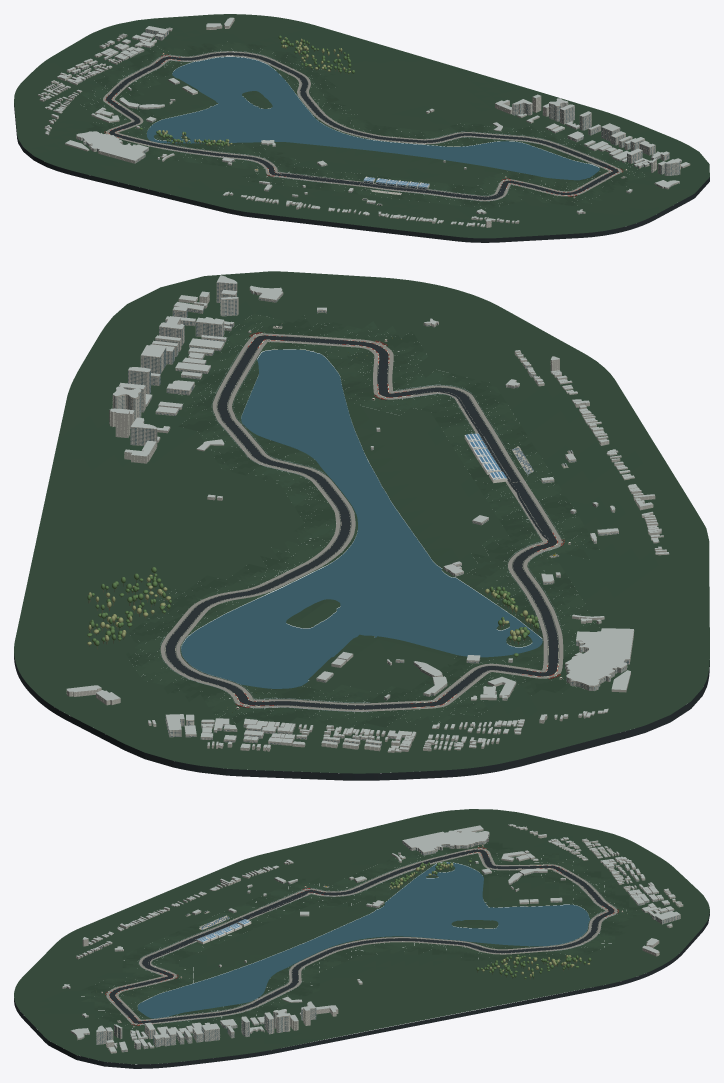
Rendered from Melbourne.glb.
3 renders of one model, top to bottom at view 1: azimuth 30°, elevation 25°; view 2: azimuth 150°, elevation 25°; view 3: azimuth 270°, elevation 25°, orthographic. The views are drawn at different scales.
Visible parts, largest first — view 1: terrain/ground, water-1/water, terrain-ground-finish-1, terrain-ground-finish-3, terrain-ground-finish-2, road/asphalt, runoff/gravel, terrain-ground-finish-0, terrain-ground-finish-4, terrain-skirt/dark, shoulder/runoff, urban-map-tile--5--2/roof (+9 smaller); view 2: terrain/ground, water-1/water, terrain-ground-finish-1, terrain-ground-finish-3, terrain-ground-finish-2, road/asphalt, terrain-ground-finish-0, terrain-ground-finish-4, runoff/gravel, terrain-skirt/dark, shoulder/runoff, urban-map-tile--5--2/roof (+11 smaller); view 3: terrain/ground, water-1/water, terrain-ground-finish-1, terrain-ground-finish-3, terrain-ground-finish-2, road/asphalt, terrain-ground-finish-0, terrain-ground-finish-4, runoff/gravel, terrain-skirt/dark, shoulder/runoff, urban-map-tile--5--2/roof (+5 smaller).
Boxes of the visible parts, x1,y1,x2,y2 form: terrain/ground: (14,14,709,238); water-1/water: (146,57,599,180); terrain-ground-finish-1: (79,43,639,208); terrain-ground-finish-3: (80,42,647,208); terrain-ground-finish-2: (82,41,640,209); road/asphalt: (106,52,618,199); runoff/gravel: (103,51,621,201); terrain-ground-finish-0: (86,44,628,206); terrain-ground-finish-4: (83,42,644,205); terrain-skirt/dark: (14,103,709,242); shoulder/runoff: (105,52,619,200); urban-map-tile--5--2/roof: (76,131,148,160); terrain/ground: (14,271,709,773); water-1/water: (181,349,542,688); terrain-ground-finish-1: (126,315,599,729); terrain-ground-finish-3: (134,313,596,727); terrain-ground-finish-2: (129,316,600,726); road/asphalt: (166,335,558,709); terrain-ground-finish-0: (128,320,598,727); terrain-ground-finish-4: (136,315,595,726); runoff/gravel: (160,333,563,711); terrain-skirt/dark: (14,653,709,780); shoulder/runoff: (164,335,559,709); urban-map-tile--5--2/roof: (565,628,633,685); terrain/ground: (14,809,709,1064); water-1/water: (137,862,590,1018); terrain-ground-finish-1: (81,841,636,1037); terrain-ground-finish-3: (87,846,642,1031); terrain-ground-finish-2: (88,841,638,1031); road/asphalt: (109,849,614,1023); terrain-ground-finish-0: (85,843,642,1034); terrain-ground-finish-4: (81,851,628,1030); runoff/gravel: (106,848,617,1025); terrain-skirt/dark: (14,911,709,1068); shoulder/runoff: (109,849,614,1023); urban-map-tile--5--2/roof: (402,830,489,852).
Size of the model in its own units: 2145 by 79.58 by 2473.
